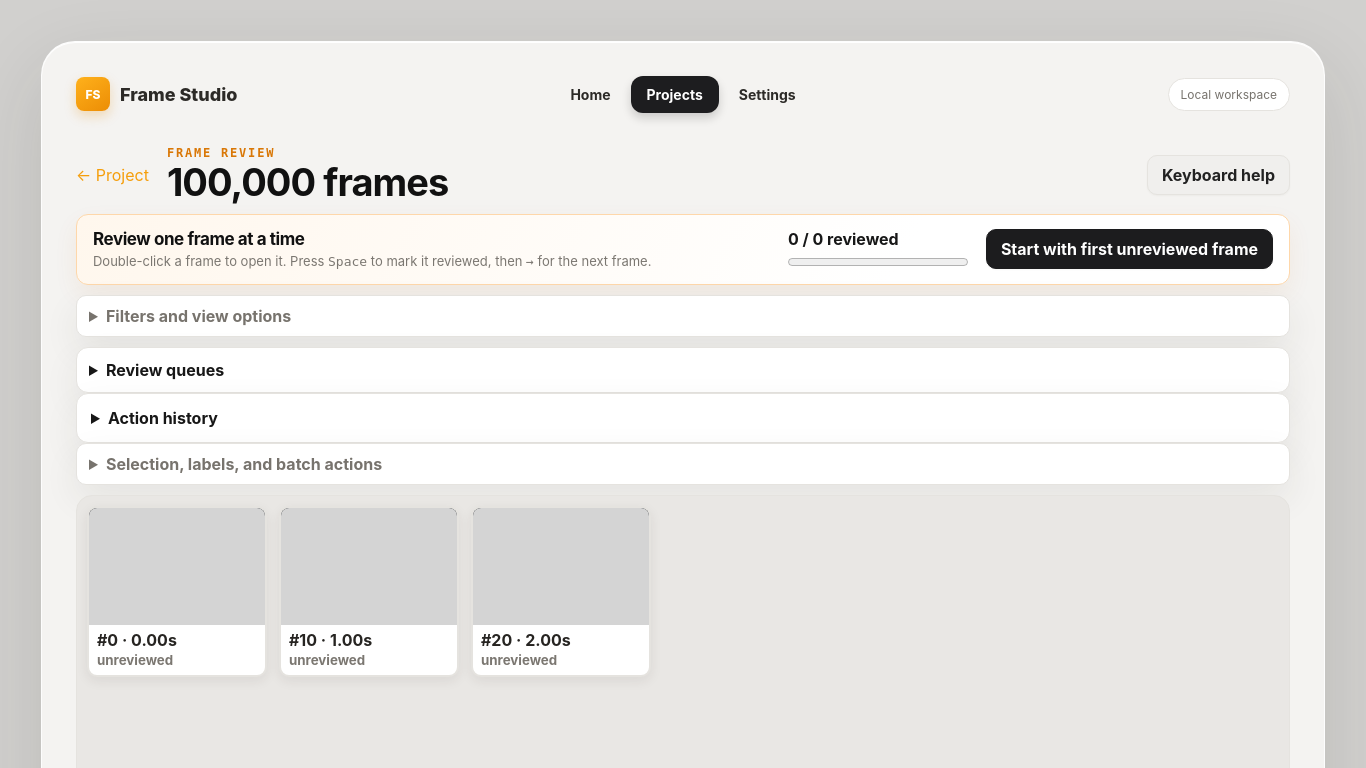
Scenario: virtualizes gallery cards and navigates the full-resolution viewer
The width and height of the screenshot is (1366, 768).
Expected: the heading "100,000 frames" is shown, [167,159,448,205]
Double-click the button named "Frame 0" at coordinates (177, 591), box [87,506,267,677]
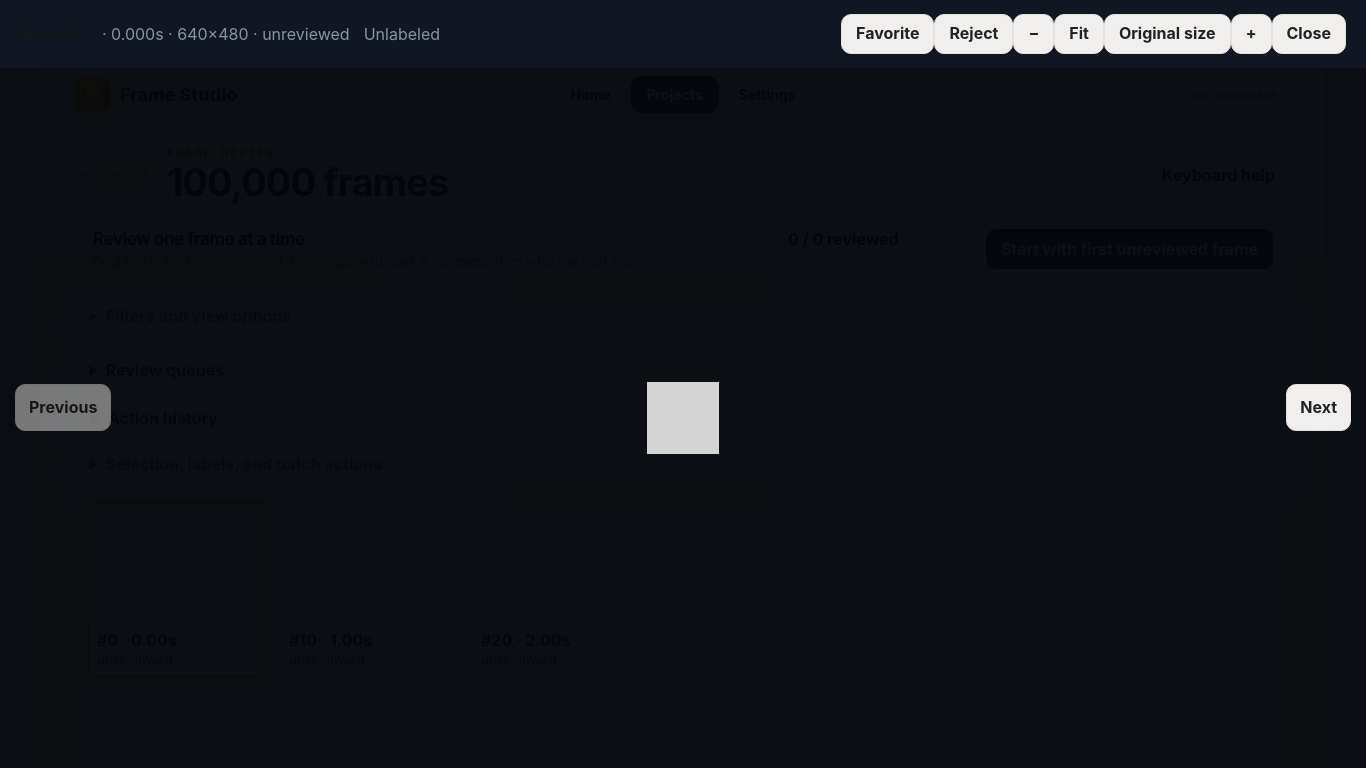
Expected: the dialog "Frame 0" is shown
Press Arrowright
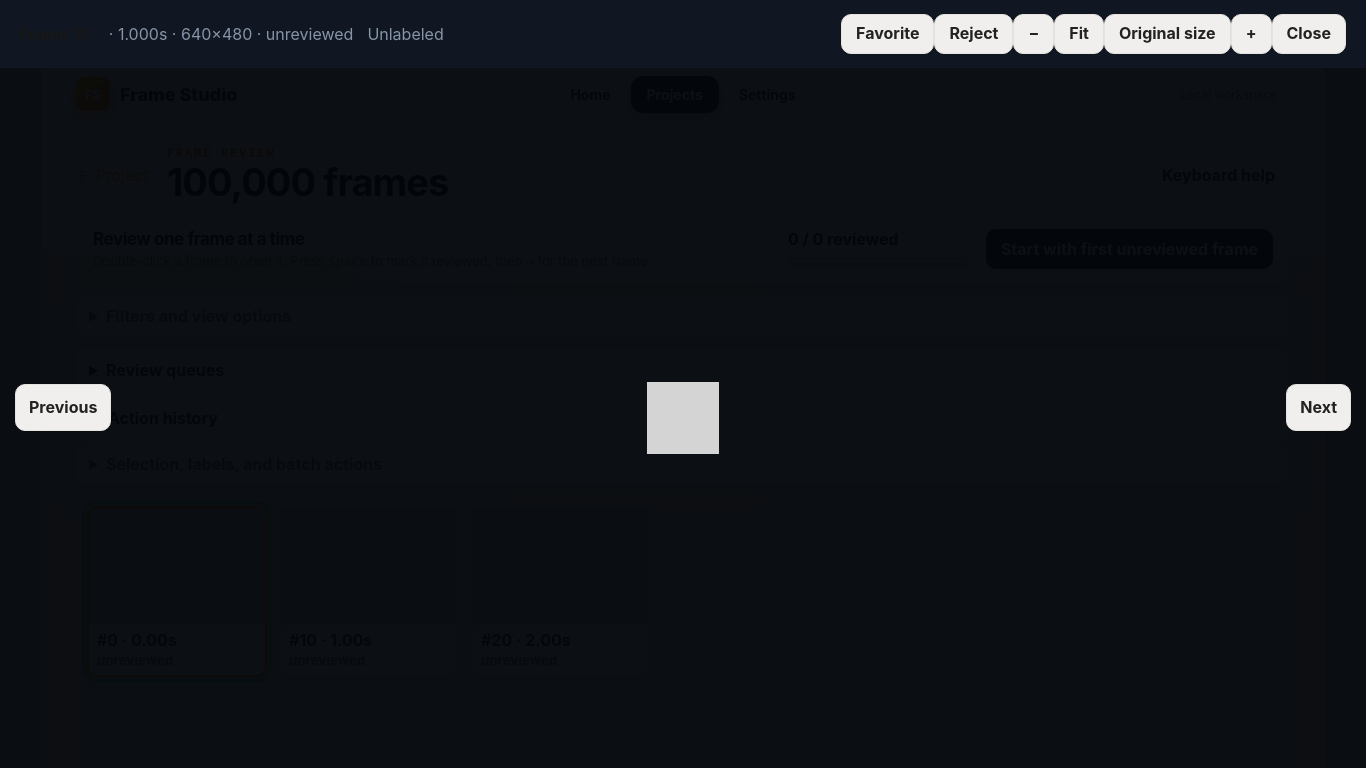
Expected: the dialog "Frame 10" is shown
Press Escape
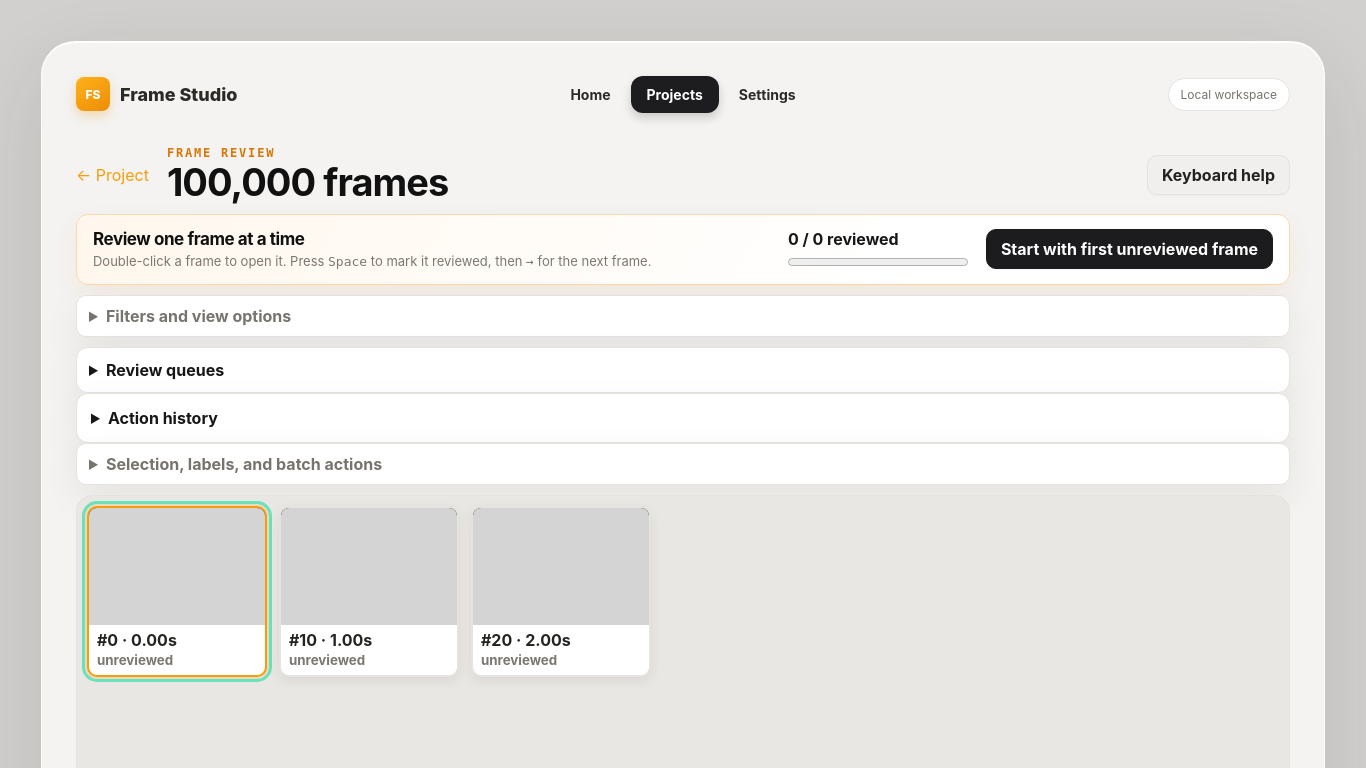
Expected: the dialog is gone
